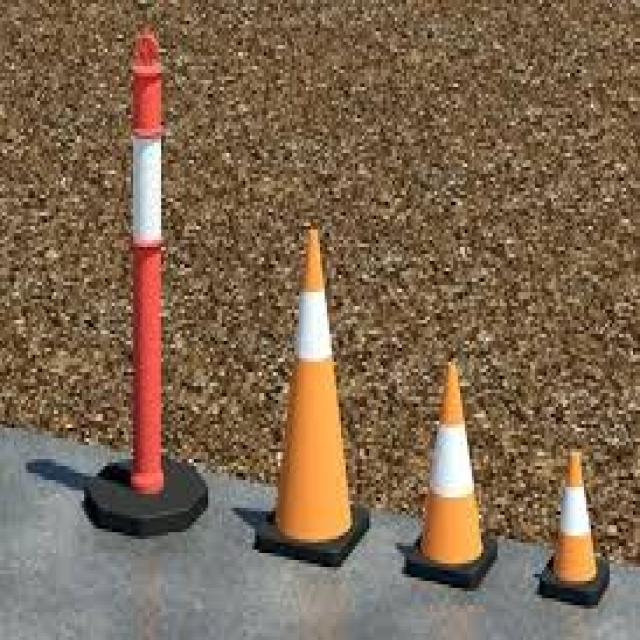cone: (269, 215, 372, 560), (424, 353, 498, 580), (538, 416, 613, 628)
